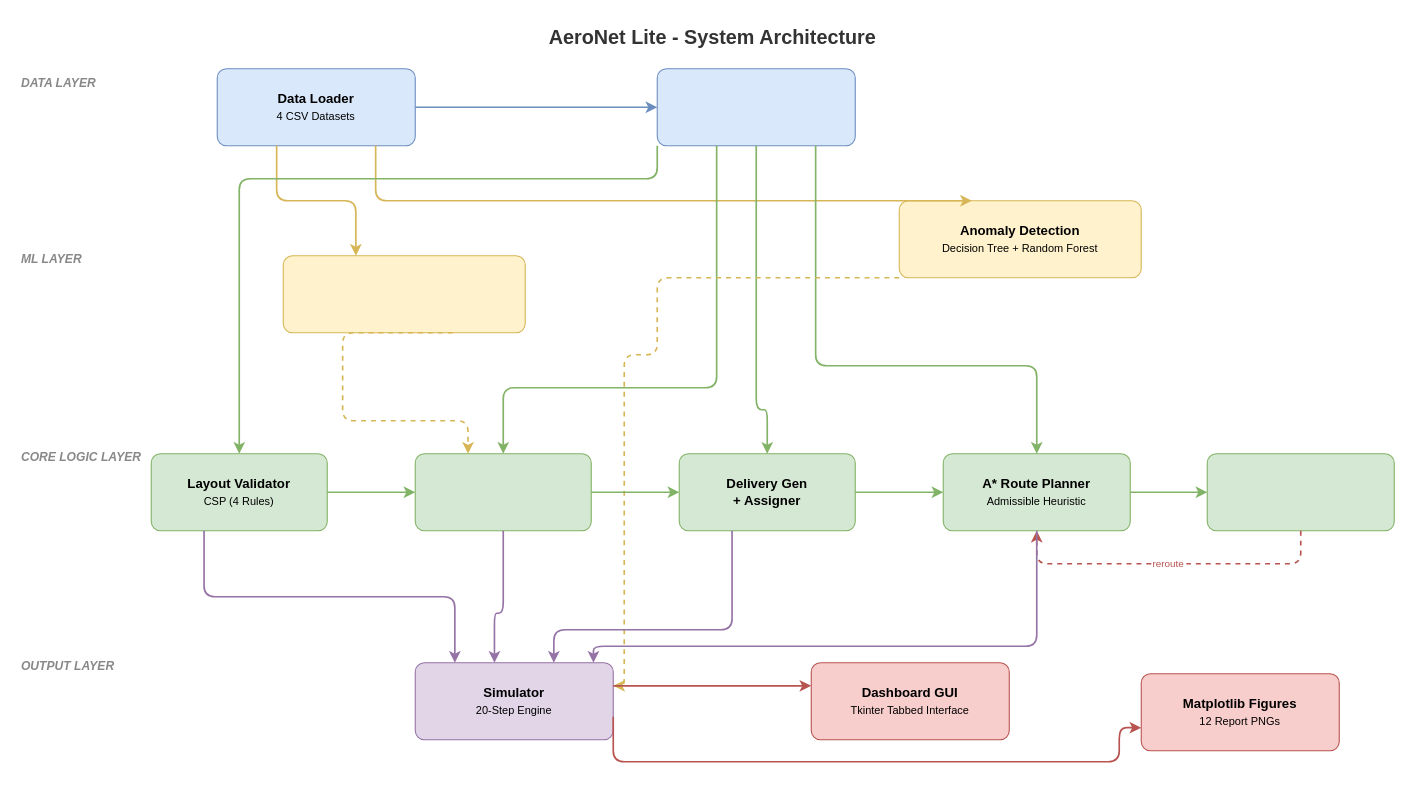
The diagram is 1414 pixels wide and 790 high, and some of its shapes have lost their labels. Each missing label, with the centre of its shape:
"Demand Forecasting Linear Reg + Random Forest" belongs at pixel 403 294.
"Disruption Handler No-Fly Rerouting" belongs at pixel 1300 492.
"Fleet Selector Brute-Force" belongs at pixel 502 492.
"Grid Model 10x10 City Grid" belongs at pixel 755 107.
